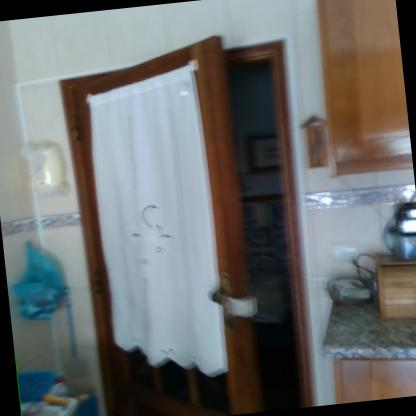semi: (60, 22, 344, 415)
